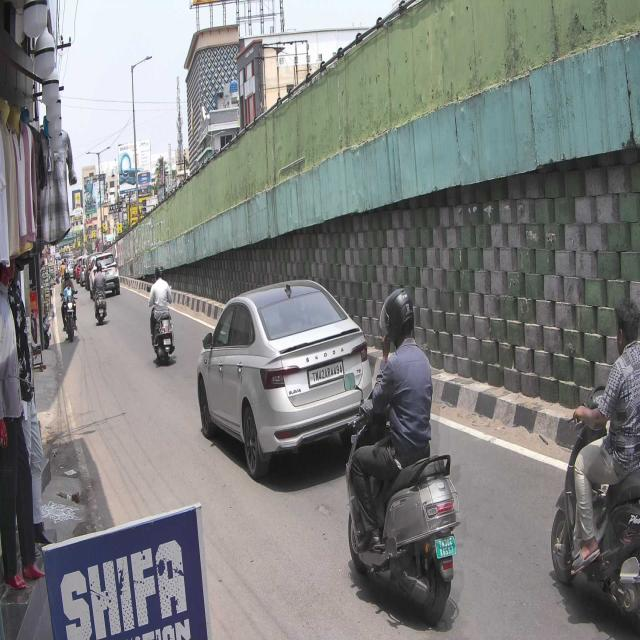single_rider: (343, 287, 459, 624)
